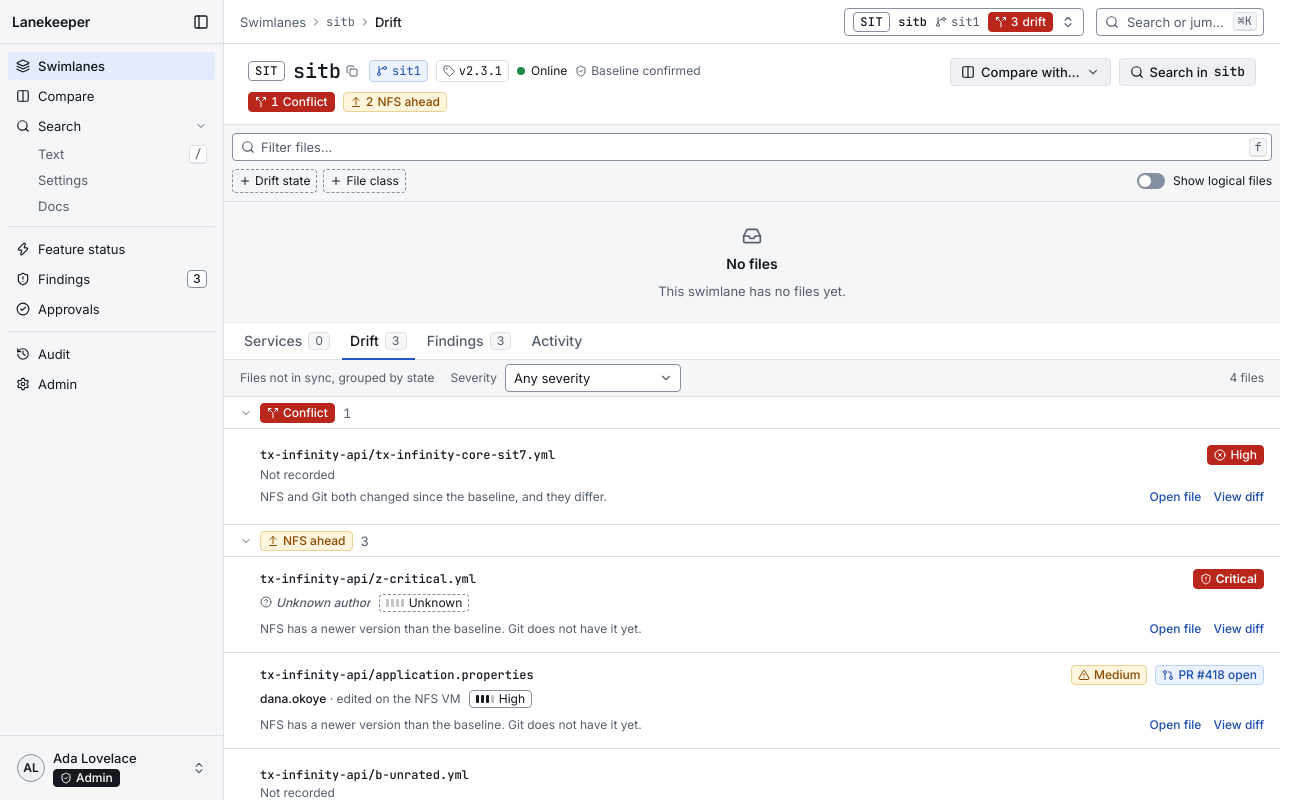
Test: the Drift tab › who changed a file, how serious it is, and its pull request › keeps the files at a level and above, and says the filter reaches only the loaded files while more are on their way
The width and height of the screenshot is (1292, 800).
Check: the text "tx-infinity-api/z-critical.yml" is shown, box [260,570,476,586]
Check: the text "loaded so far" is not shown
Select "High and above" in the dropdown labelled "Severity". click: (593, 378)
box: [505,364,681,392]
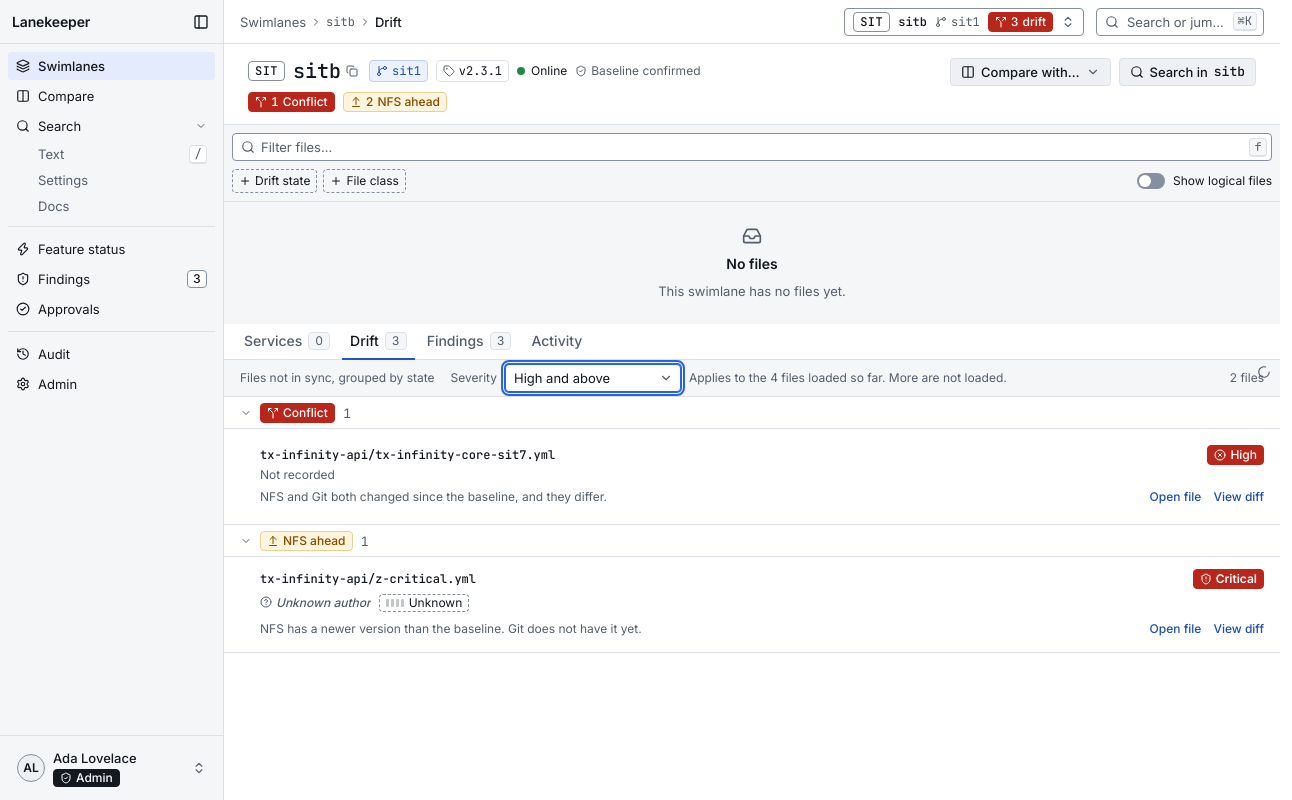
Check: the text "Applies to the 4 files loaded so far. More are not loaded." is shown, box [689,370,1007,386]
Check: the text "tx-infinity-api/application.properties" is gone
Check: the text "tx-infinity-api/b-unrated.yml" is gone
